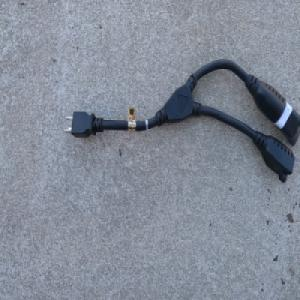Wire: (63, 58, 300, 181)
